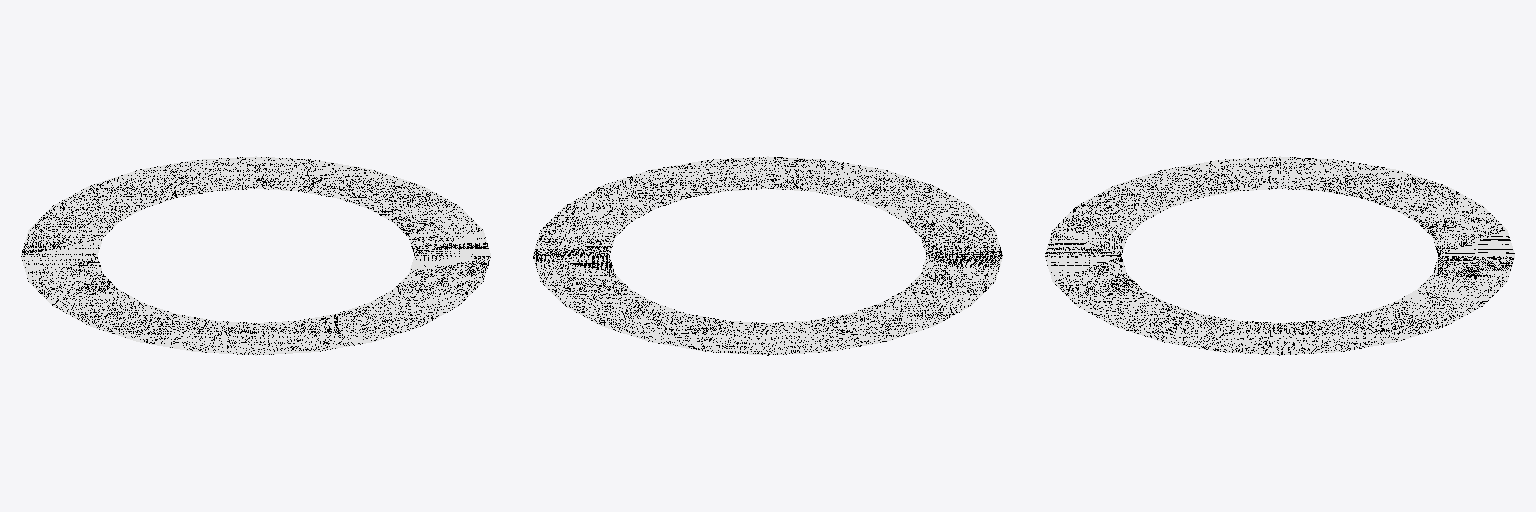
The model's file is original-18.obj.
3 renders of one model, left to right at view 1: azimuth 30°, elevation 25°; view 2: azimuth 150°, elevation 25°; view 3: azimuth 270°, elevation 25°, orthographic.
Visible parts, largest first — view 1: 3dw.59a07a01d7c3fdb03c1d9add3a87bd2d/Model/mesh1/mesh1-geometry/; view 2: 3dw.59a07a01d7c3fdb03c1d9add3a87bd2d/Model/mesh1/mesh1-geometry/; view 3: 3dw.59a07a01d7c3fdb03c1d9add3a87bd2d/Model/mesh1/mesh1-geometry/.
Boxes of the visible parts, <box> form: 3dw.59a07a01d7c3fdb03c1d9add3a87bd2d/Model/mesh1/mesh1-geometry/: <box>21,156,490,355</box>; 3dw.59a07a01d7c3fdb03c1d9add3a87bd2d/Model/mesh1/mesh1-geometry/: <box>533,156,1002,355</box>; 3dw.59a07a01d7c3fdb03c1d9add3a87bd2d/Model/mesh1/mesh1-geometry/: <box>1045,156,1514,355</box>.
Size of the model in its own units: 0.022 by 0 by 0.022.